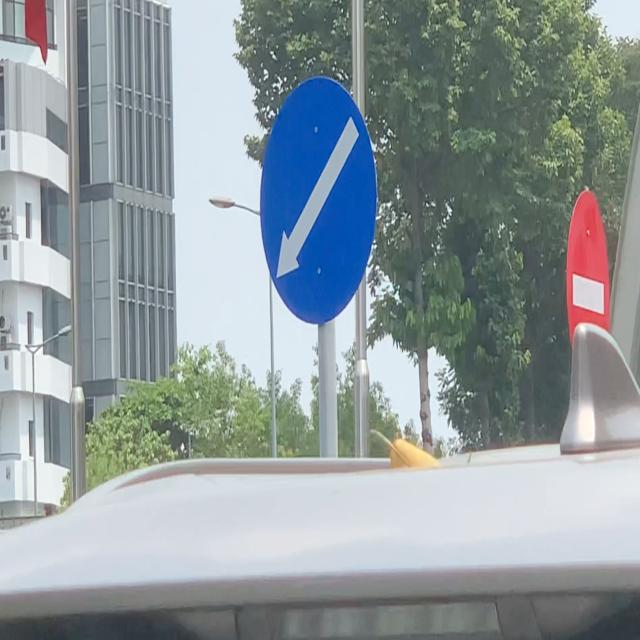Hieu lenh: (260, 77, 378, 325)
